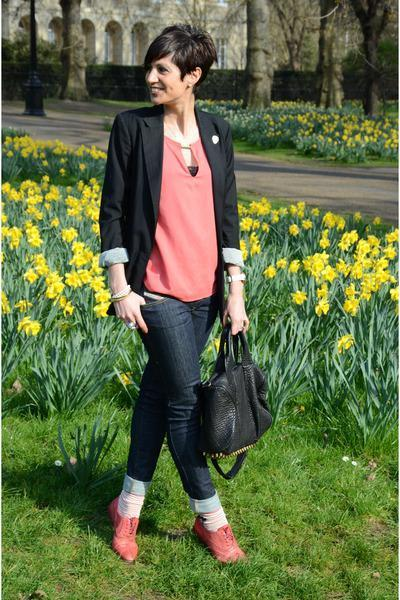bag: (188, 326, 275, 467)
jacket: (96, 88, 250, 332)
pants: (125, 296, 215, 499)
shirt: (145, 135, 217, 299)
shoe: (108, 497, 243, 562)
